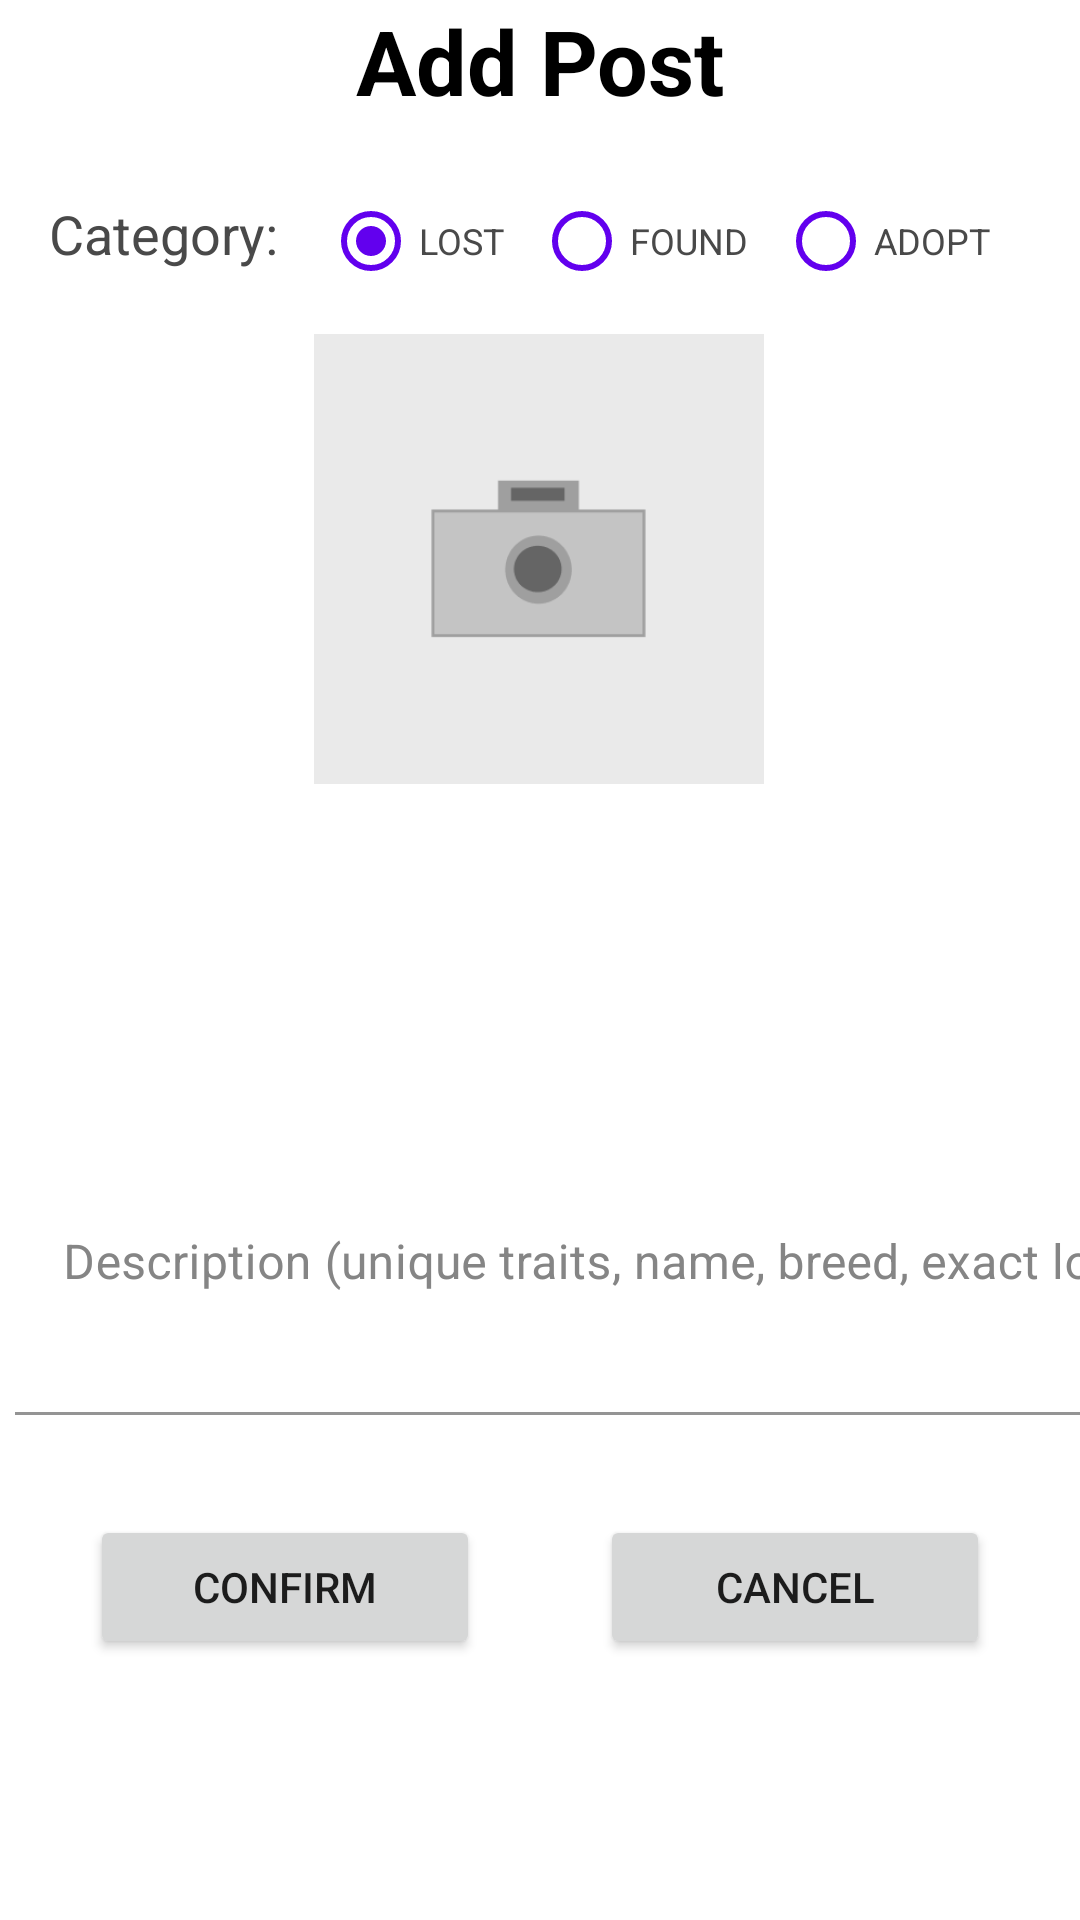

Named icons in this screenshot (1080×1920) and their centers, (x=x, y=y):
Camera (add photo): (x=538, y=559)
